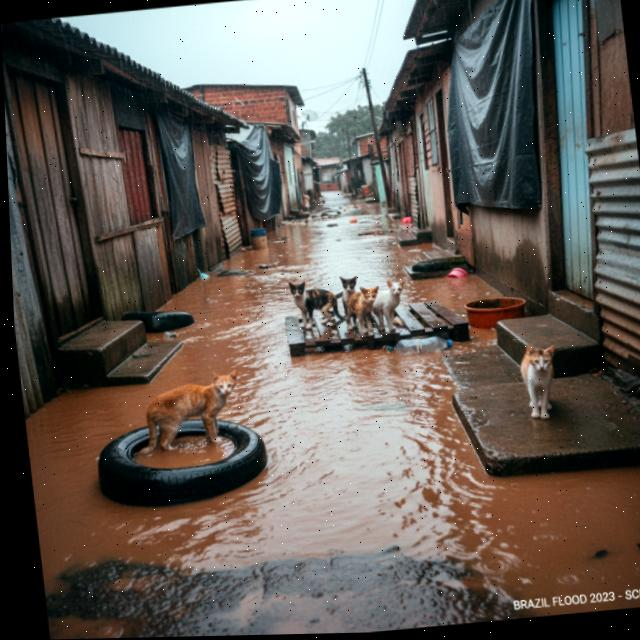cat: (120, 364, 250, 459), (514, 335, 567, 428), (281, 272, 349, 334), (371, 274, 415, 333), (343, 283, 385, 332), (331, 270, 368, 323)
